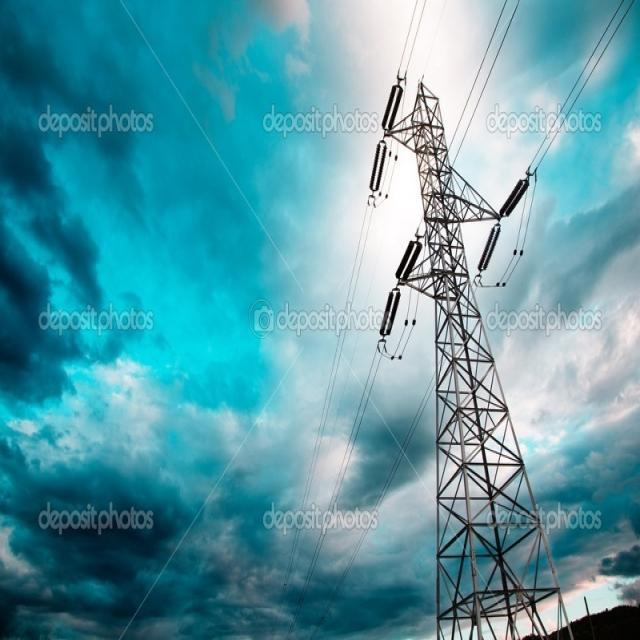non-critical vegetation: (358, 68, 589, 630)
